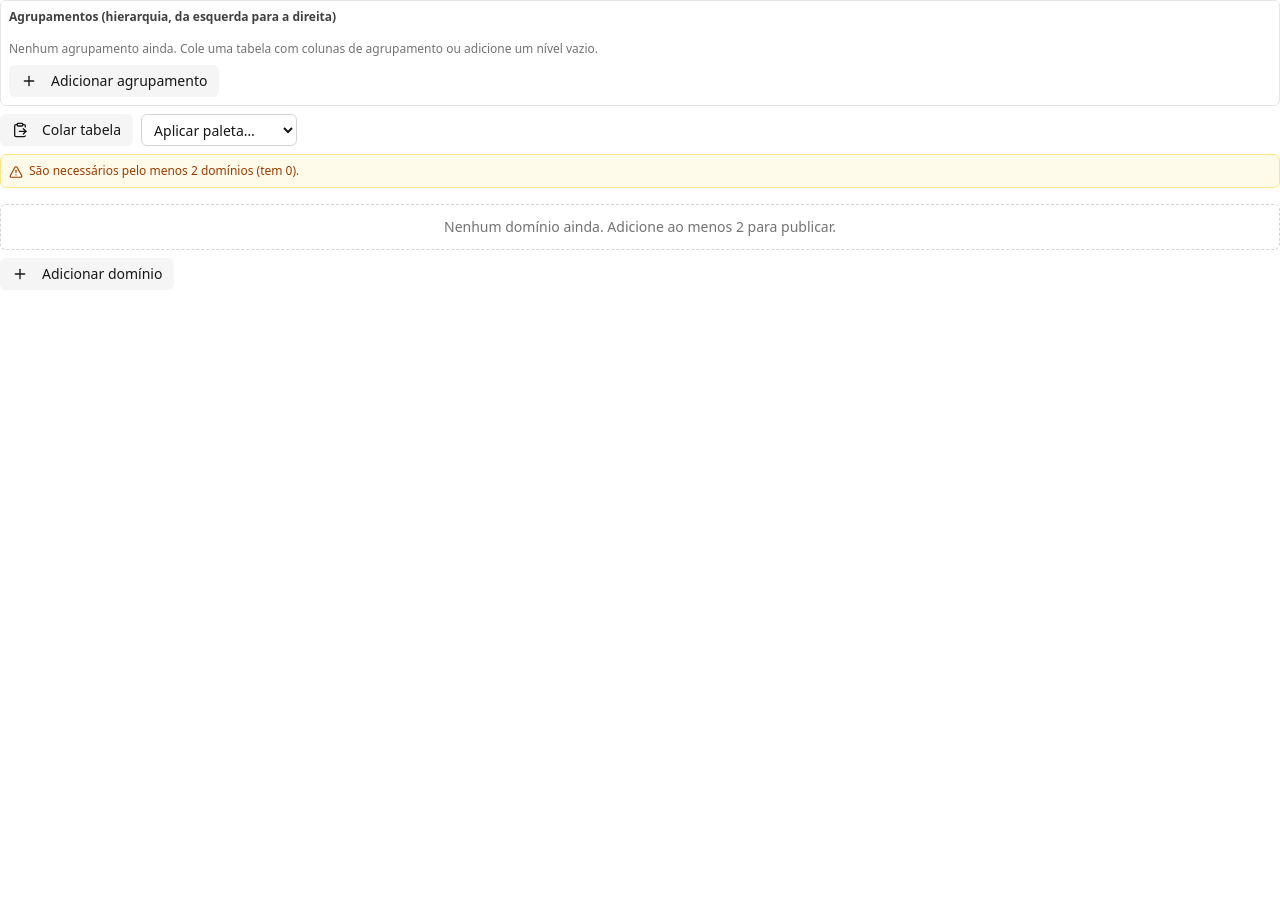
DomainsEditor — agrupamentos hierárquicos (docs/07 §11) › oferece o modelo com agrupamentos para download só em RANGE
The width and height of the screenshot is (1280, 900).
Click the button "Colar tabela".
click(67, 130)  # box [0,114,133,146]
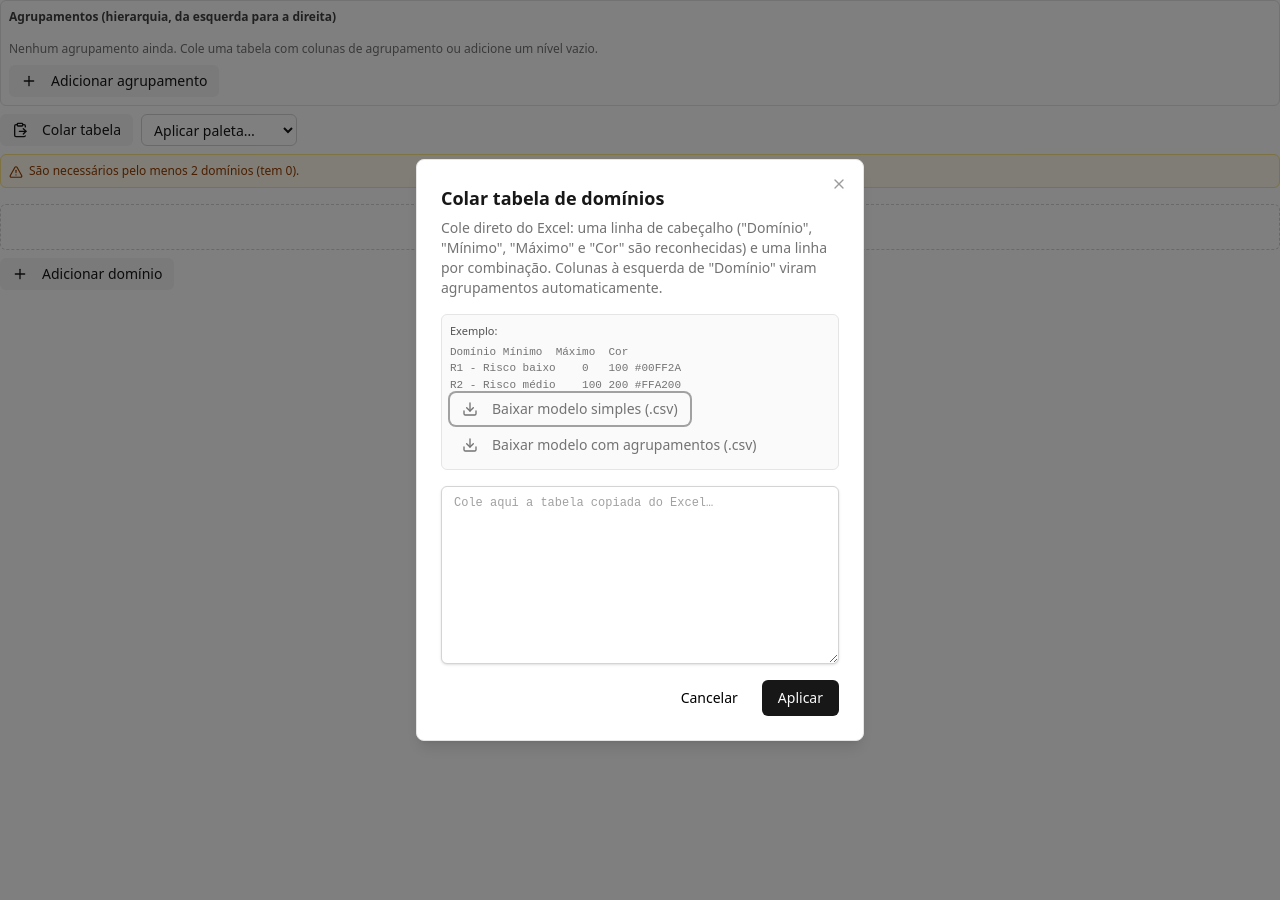
Expected: the button "Baixar modelo com agrupamentos (.csv)" is shown, [450,429,768,461]
